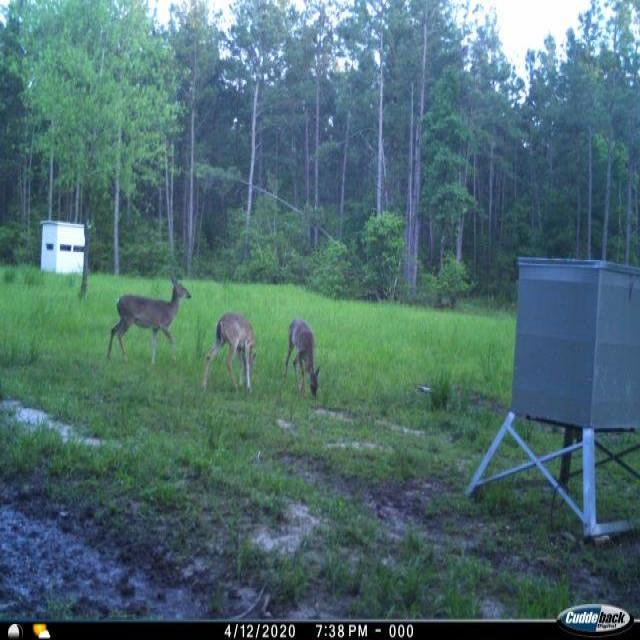deer: (105, 272, 196, 371), (198, 309, 258, 399), (283, 316, 326, 401)
